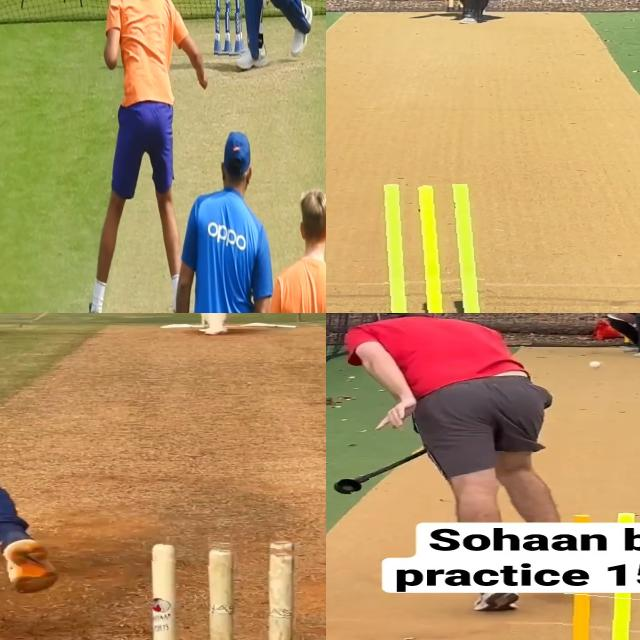Cricket ball: (145, 537, 298, 640), (588, 362, 602, 369)
Stumps: (366, 184, 485, 313), (557, 592, 640, 640), (214, 0, 242, 59)
